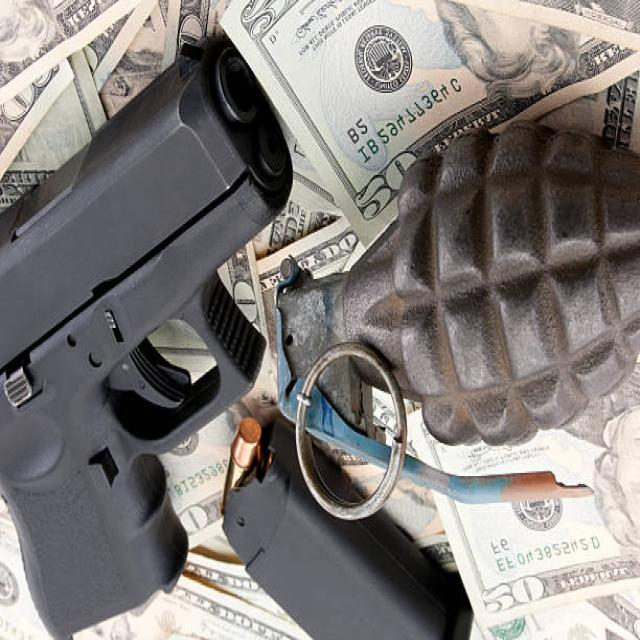grenade: (264, 111, 640, 533)
